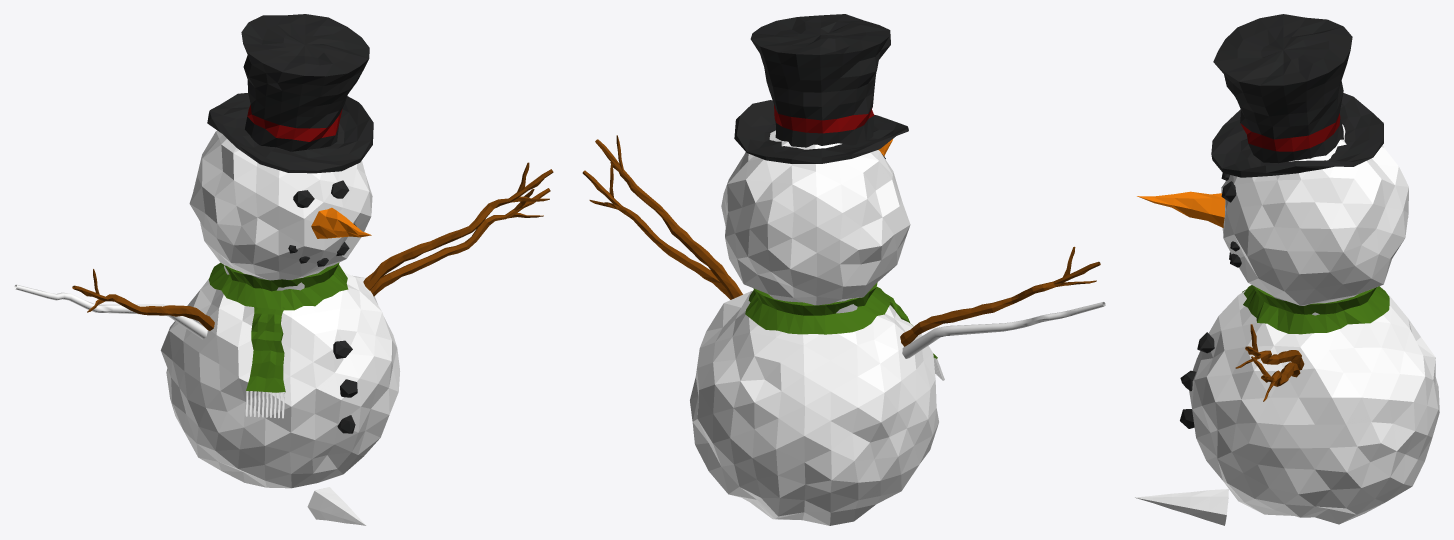
File: snowman.obj
3 renders of one model, left to right at view 1: azimuth 30°, elevation 25°; view 2: azimuth 150°, elevation 25°; view 3: azimuth 270°, elevation 25°, orthographic. The views are drawn at different scales.
Visible parts, largest first — view 1: upper_body.1, Hat.1, head_sphere.1, Scarf.1, Symmetry, scarf_end, Spline_sweep, Spline_sweep_2, Cone.1, Cone, Null; view 2: upper_body.1, head_sphere.1, Hat.1, Scarf.1, Symmetry, Spline_sweep_2, Spline_sweep; view 3: upper_body.1, head_sphere.1, Hat.1, Scarf.1, Cone.1, Cone, Symmetry, Null, Spline_sweep.
Part boxes in pixels (x1=…): upper_body.1: x1=160, y1=272, x2=400, y2=488; Hat.1: x1=207, y1=14, x2=373, y2=173; head_sphere.1: x1=189, y1=130, x2=372, y2=280; Scarf.1: x1=208, y1=262, x2=348, y2=310; Symmetry: x1=72, y1=162, x2=553, y2=330; scarf_end: x1=246, y1=307, x2=285, y2=392; Spline_sweep: x1=370, y1=188, x2=550, y2=296; Spline_sweep_2: x1=14, y1=284, x2=207, y2=339; Cone.1: x1=307, y1=487, x2=366, y2=525; Cone: x1=311, y1=207, x2=371, y2=238; Null: x1=333, y1=340, x2=357, y2=433; upper_body.1: x1=690, y1=291, x2=938, y2=525; head_sphere.1: x1=721, y1=130, x2=910, y2=305; Hat.1: x1=734, y1=14, x2=908, y2=163; Scarf.1: x1=745, y1=282, x2=890, y2=334; Symmetry: x1=595, y1=135, x2=1100, y2=346; Spline_sweep_2: x1=902, y1=302, x2=1105, y2=358; Spline_sweep: x1=582, y1=163, x2=731, y2=299; upper_body.1: x1=1189, y1=290, x2=1439, y2=524; head_sphere.1: x1=1221, y1=124, x2=1408, y2=305; Hat.1: x1=1211, y1=14, x2=1383, y2=177; Scarf.1: x1=1243, y1=285, x2=1389, y2=334; Cone.1: x1=1134, y1=489, x2=1228, y2=525; Cone: x1=1137, y1=191, x2=1225, y2=227; Symmetry: x1=1235, y1=324, x2=1304, y2=370; Null: x1=1180, y1=332, x2=1214, y2=428; Spline_sweep: x1=1251, y1=356, x2=1300, y2=401.
Bounding box in the file's own units: 260 × 221 × 126.
